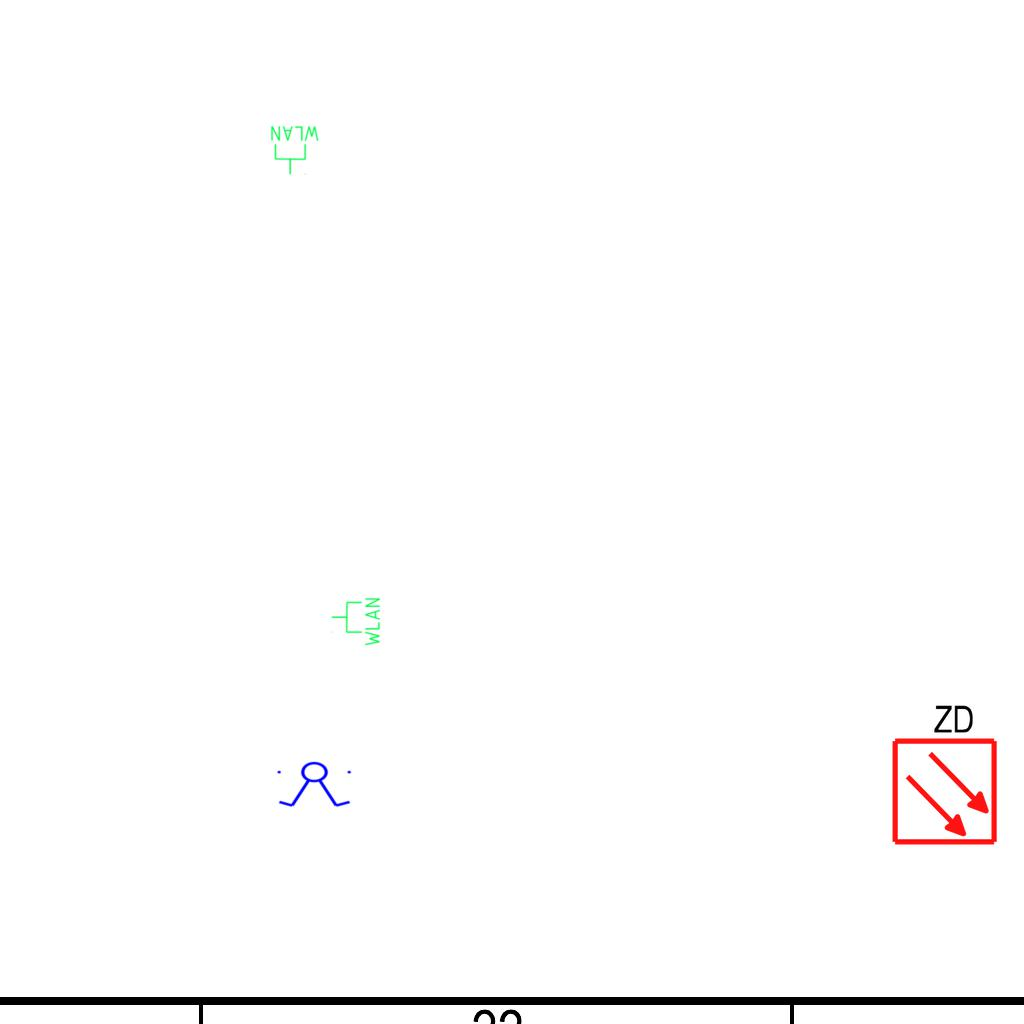Serienschalter: (273, 761, 357, 809)
WLAN: (330, 596, 382, 648), (269, 124, 321, 176)
ZD_Melder_in_Zwischendecke_mit_Revisionsoeffnung_mind_40_x_40_cm: (886, 698, 1000, 847)
